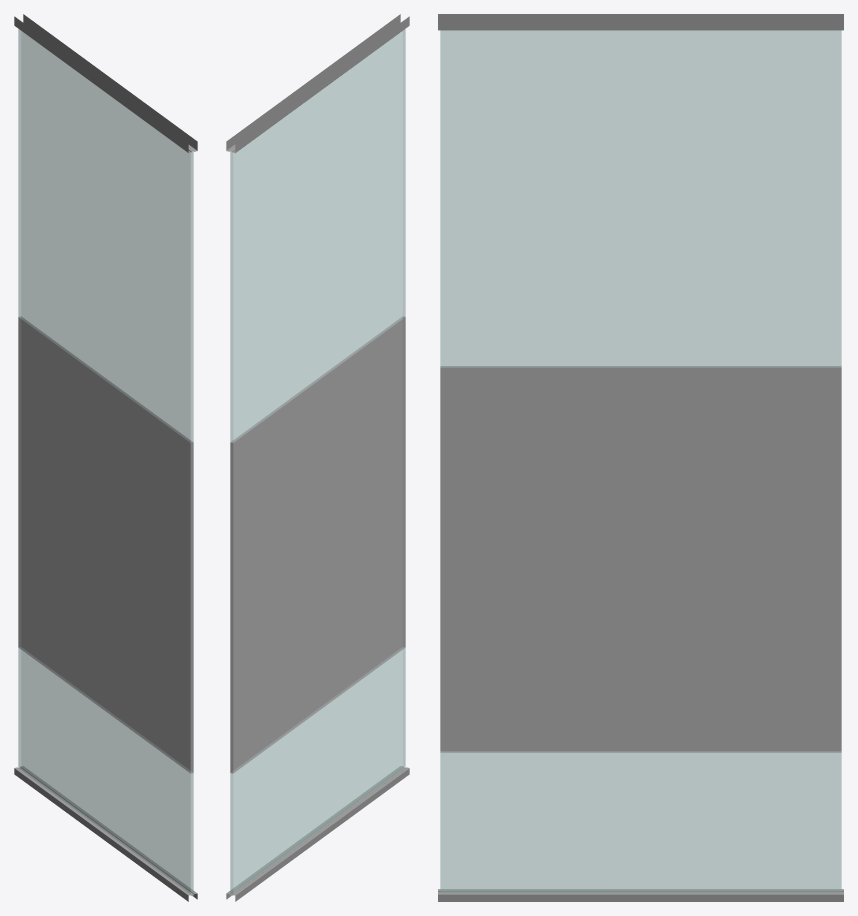
The model's file is Glass_panel_side_geo.fbx.
3 views of the same model, side by side, from view 1: azimuth 30°, elevation 25°; view 2: azimuth 150°, elevation 25°; view 3: azimuth 270°, elevation 25° (orthographic). The views are drawn at different scales.
Parts seen in each view (by area): view 1: Glass_panel_side_geo; view 2: Glass_panel_side_geo; view 3: Glass_panel_side_geo.
Boxes of the visible parts, box(x1,y1,x2,y2) form: Glass_panel_side_geo: box(14, 14, 197, 901); Glass_panel_side_geo: box(226, 14, 409, 901); Glass_panel_side_geo: box(438, 14, 843, 901).
Size of the model in its own units: 3 by 240 by 100.
